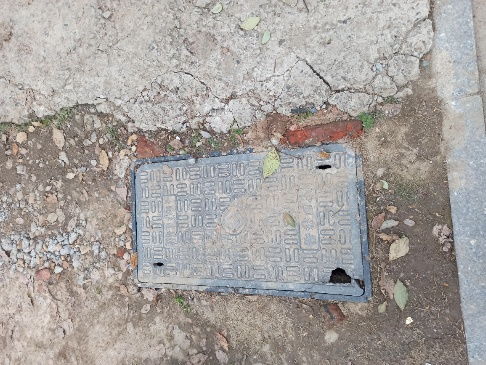broke: (130, 142, 373, 301)
